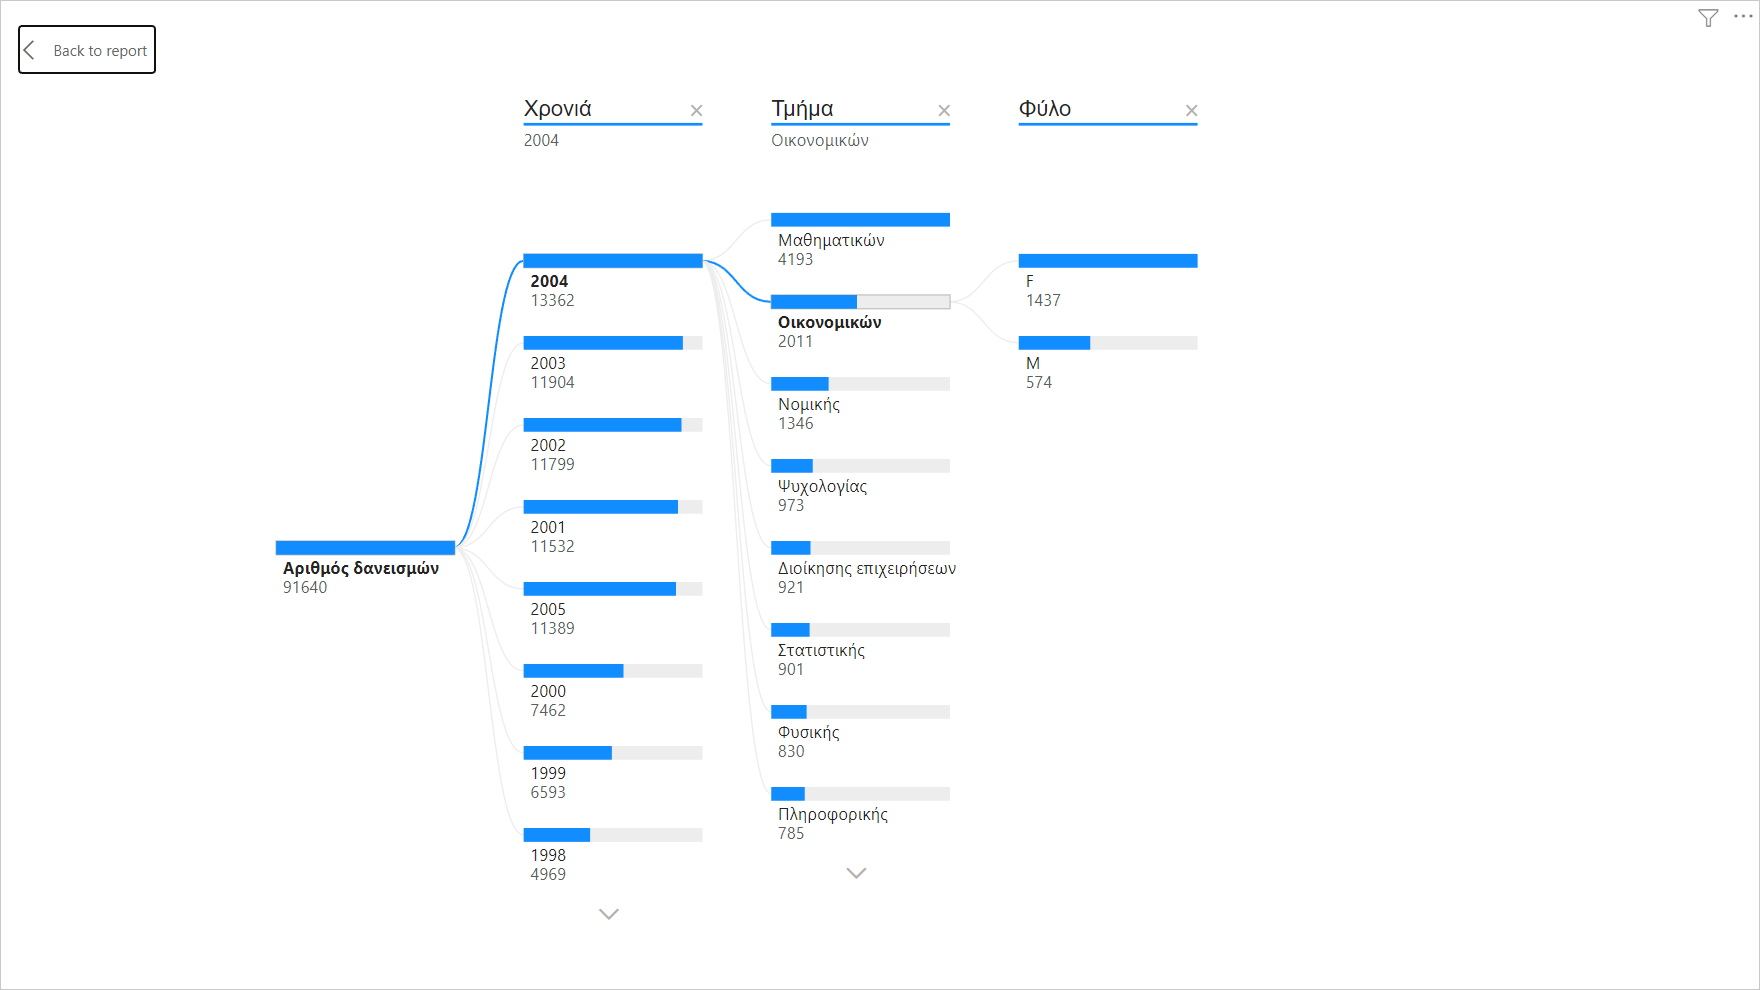

The page's visual inventory and layout, read from the dashboard file:
{"tool":"powerbi","page":{"name":"Q4","canvas":[1280,720],"ordinal":3},"visuals":[{"type":"decompositionTreeVisual","fields":{"ExplainBy":["Calender.lyear","Departments.depname","Customers.sex"],"Analyze":["CountNonNull(LoanedBooks.lb_id)"]},"box":[90.9,52.7,1097.3,613.6],"z":0}]}

Visuals, with their boxes on the page's 1280x720 design canvas (x1, y1, x2, y2). These are canvas units, not pixel positions in the 1760x990 screenshot, which may show the page scaled, cropped or inside an application window:
decompositionTreeVisual - Calender.lyear x Departments.depname: box(91, 53, 1188, 666)
